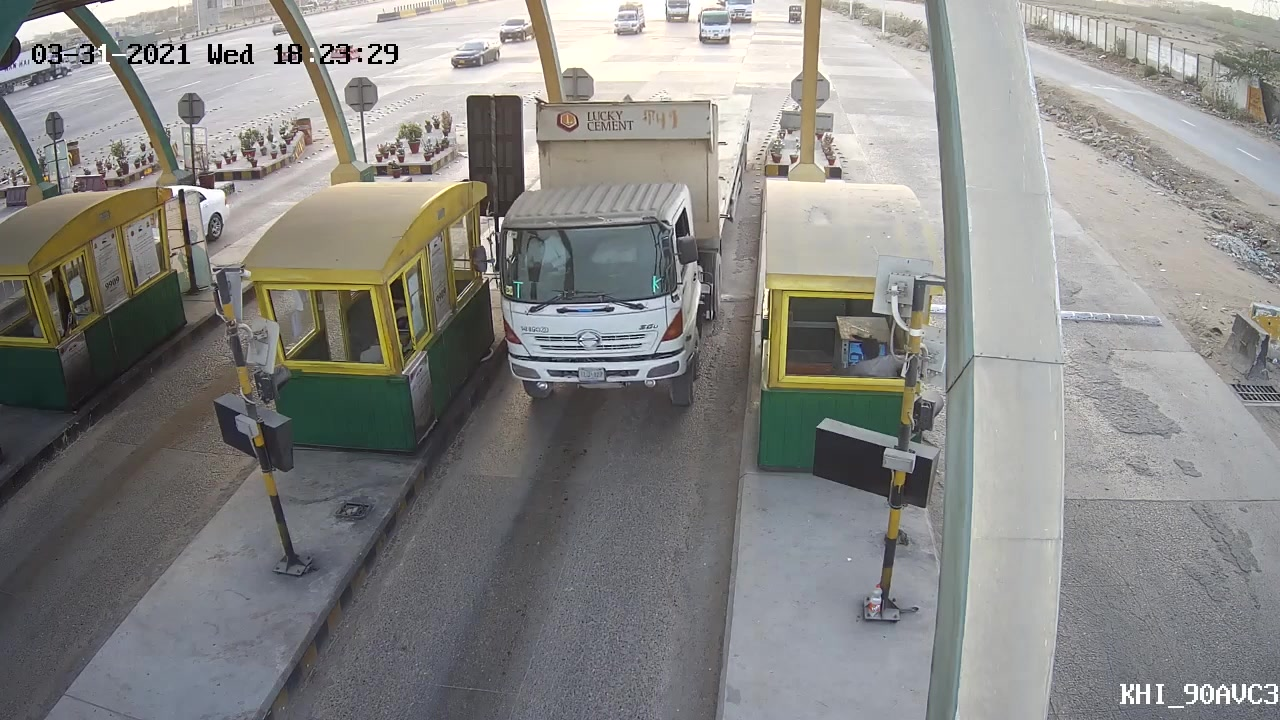F6: (464, 77, 740, 411)
